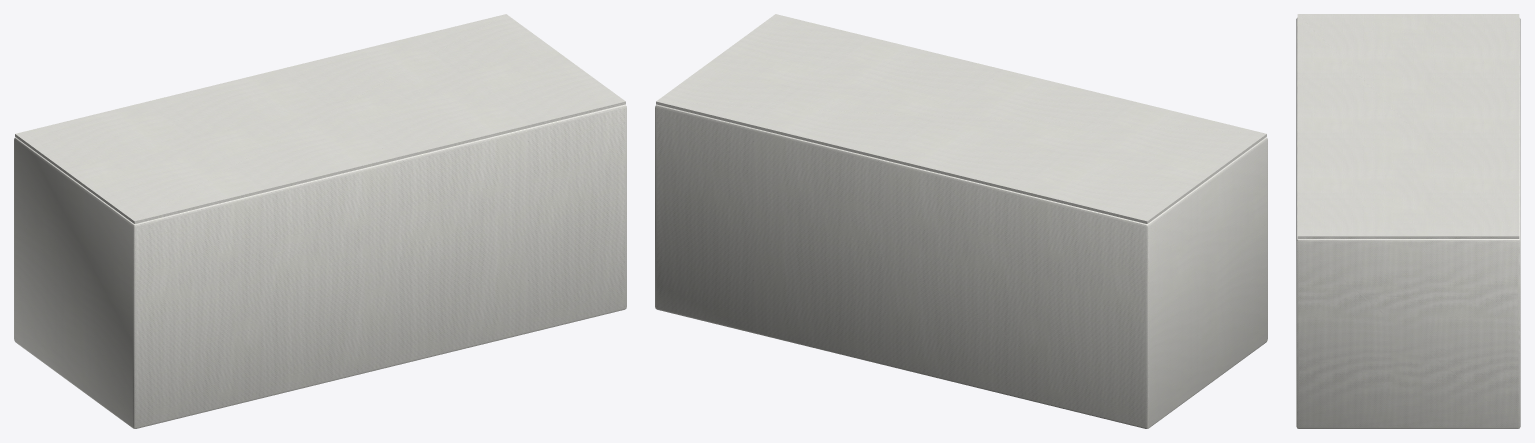
The model's file is table_trestle_6ft.gltf.
The picture shows the model from 3 angles, left to right: view 1: azimuth 30°, elevation 25°; view 2: azimuth 150°, elevation 25°; view 3: azimuth 270°, elevation 25°; orthographic projection. The views are drawn at different scales.
Parts seen in each view (by area): view 1: table_trestle_6ft; view 2: table_trestle_6ft; view 3: table_trestle_6ft.
Part boxes in pixels (left/top/right/bottom): table_trestle_6ft: left=14, top=14, right=626, bottom=428; table_trestle_6ft: left=655, top=14, right=1267, bottom=428; table_trestle_6ft: left=1296, top=14, right=1520, bottom=428.
Bounding box in the file's own units: 1.86 × 0.75 × 0.79.
Materials: 1 (1 with a texture image).
